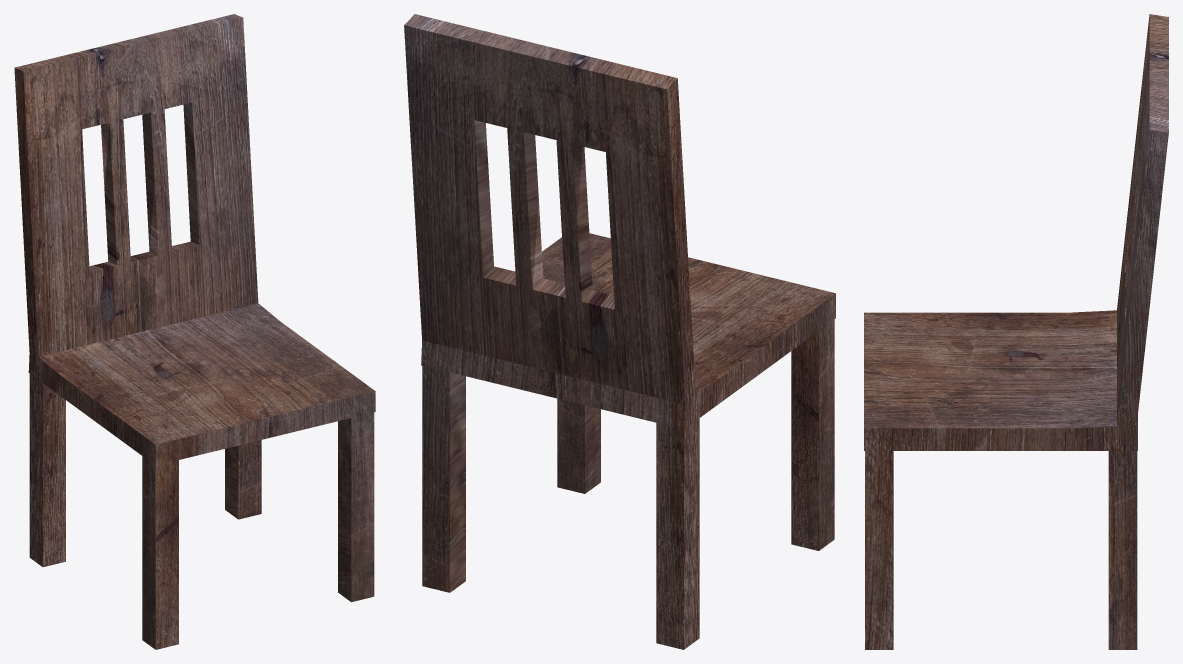
File: chair.glb
3 renders of one model, left to right at view 1: azimuth 30°, elevation 25°; view 2: azimuth 150°, elevation 25°; view 3: azimuth 270°, elevation 25°, orthographic. The views are drawn at different scales.
Visible parts, largest first — view 1: Chair; view 2: Chair; view 3: Chair.
Boxes of the visible parts, <box> form: Chair: <box>14,14,375,649</box>; Chair: <box>404,14,835,649</box>; Chair: <box>864,14,1168,649</box>.
Size of the model in its own units: 2 by 4.19 by 2.22.
1 material, 1 textured.
